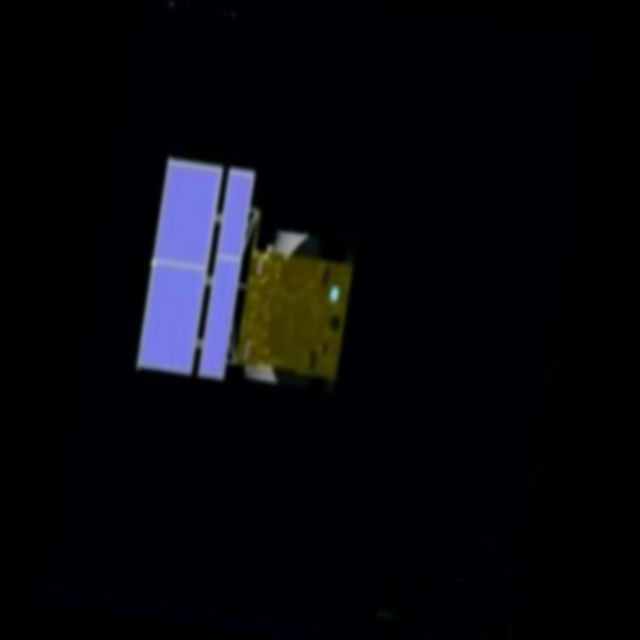medium_debris: (115, 128, 384, 438)
